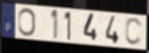1: (50, 9, 59, 42), (64, 11, 72, 41)
4: (82, 12, 100, 45), (104, 15, 120, 46)
C: (124, 17, 144, 48)
O: (18, 7, 37, 38)
